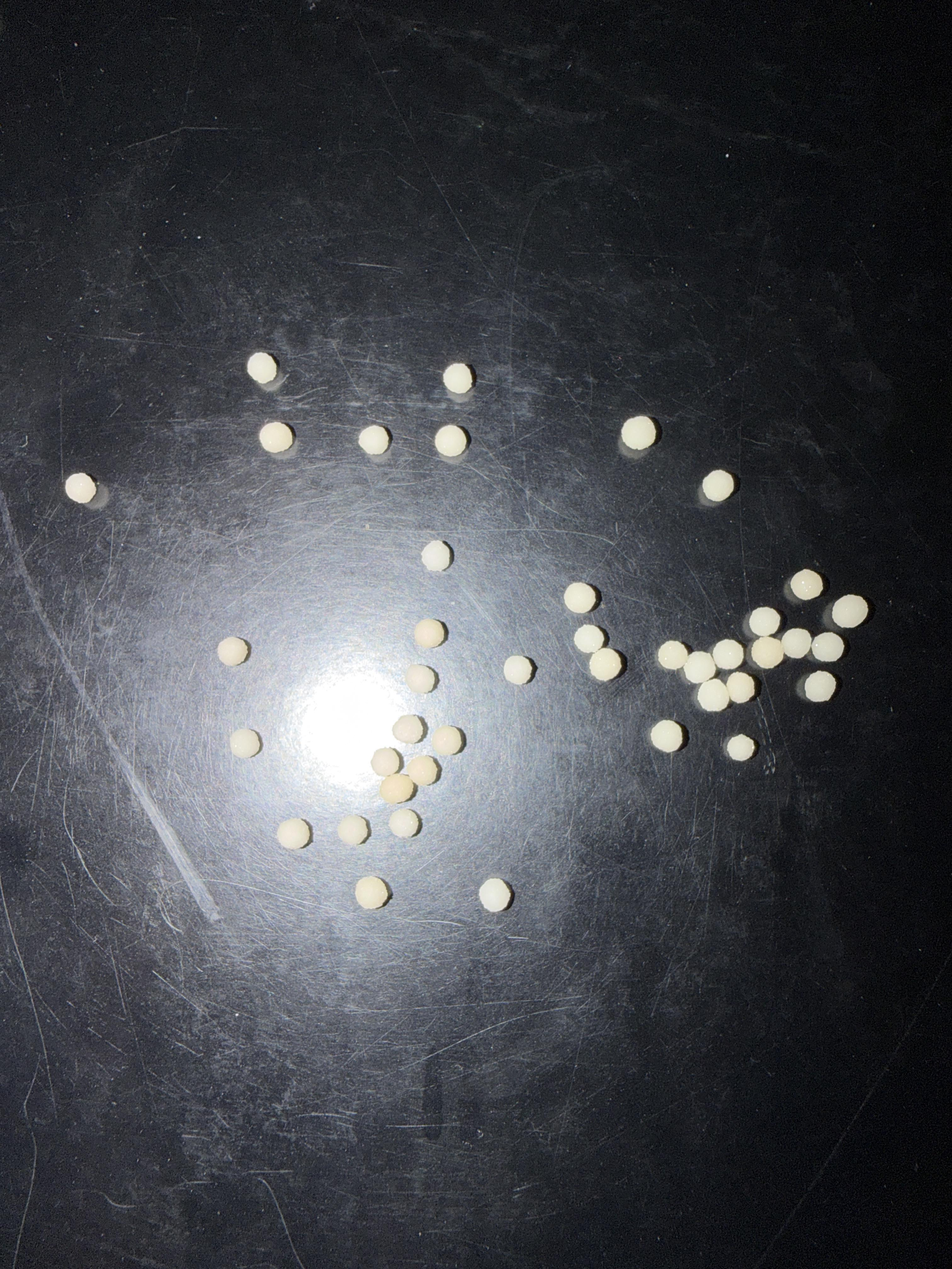pill: (621, 415, 657, 450), (831, 594, 868, 628), (355, 876, 391, 909), (258, 421, 295, 453), (650, 719, 684, 753), (589, 647, 623, 681), (479, 878, 513, 912), (789, 568, 824, 601), (701, 469, 735, 502), (434, 424, 468, 457), (276, 818, 311, 850), (697, 679, 730, 712), (683, 651, 716, 684), (750, 636, 784, 668), (379, 774, 415, 804), (246, 351, 278, 384), (64, 472, 97, 504), (803, 671, 837, 702), (563, 583, 598, 613), (725, 671, 757, 703), (711, 639, 744, 670), (406, 755, 439, 786), (358, 424, 391, 455), (811, 632, 845, 662), (442, 363, 474, 394), (432, 725, 464, 756), (781, 627, 812, 659), (574, 624, 607, 654), (388, 808, 421, 838), (748, 606, 781, 636), (337, 815, 370, 845), (421, 540, 452, 571), (229, 728, 261, 758), (414, 618, 446, 648), (392, 714, 424, 744), (217, 636, 249, 666), (657, 640, 689, 670), (371, 747, 402, 777), (503, 655, 534, 685), (405, 664, 436, 694), (726, 734, 757, 761)
